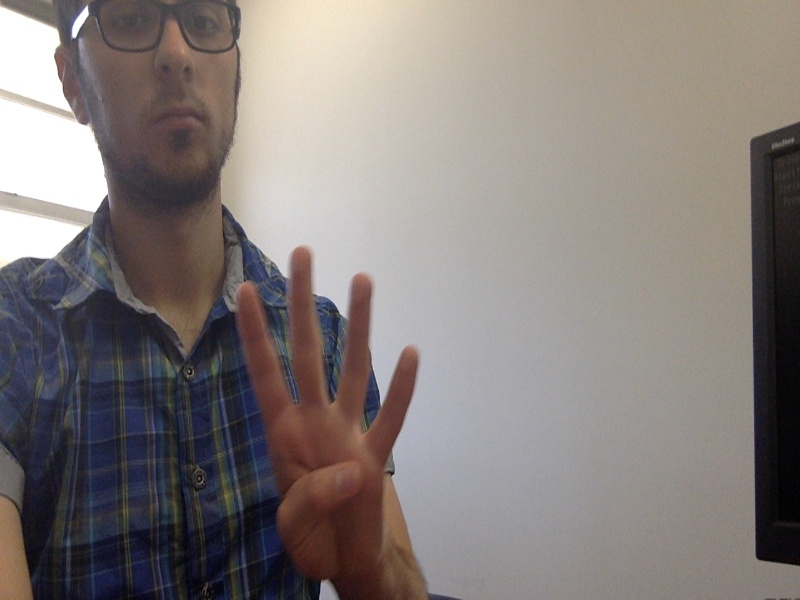4-hand: (231, 247, 419, 579)
